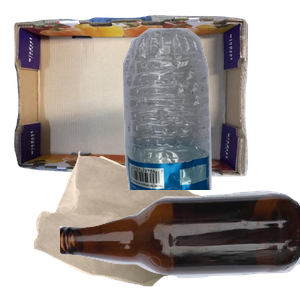cardboard: (11, 13, 251, 182)
glass: (60, 188, 300, 300)
plastic: (111, 26, 300, 206)
trash: (31, 149, 268, 300)
